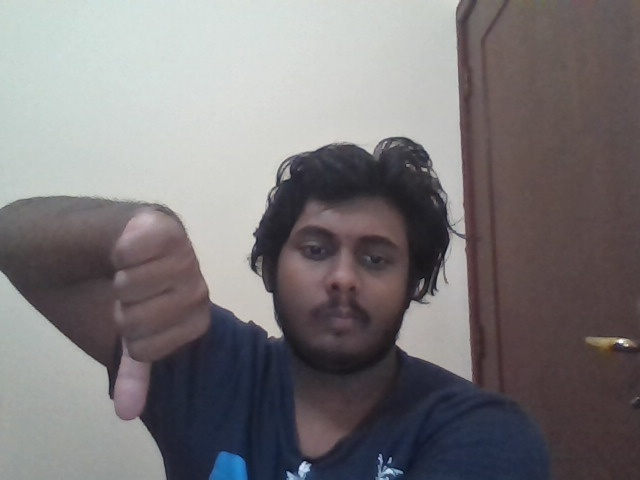thumbsdown: (112, 207, 213, 421)
